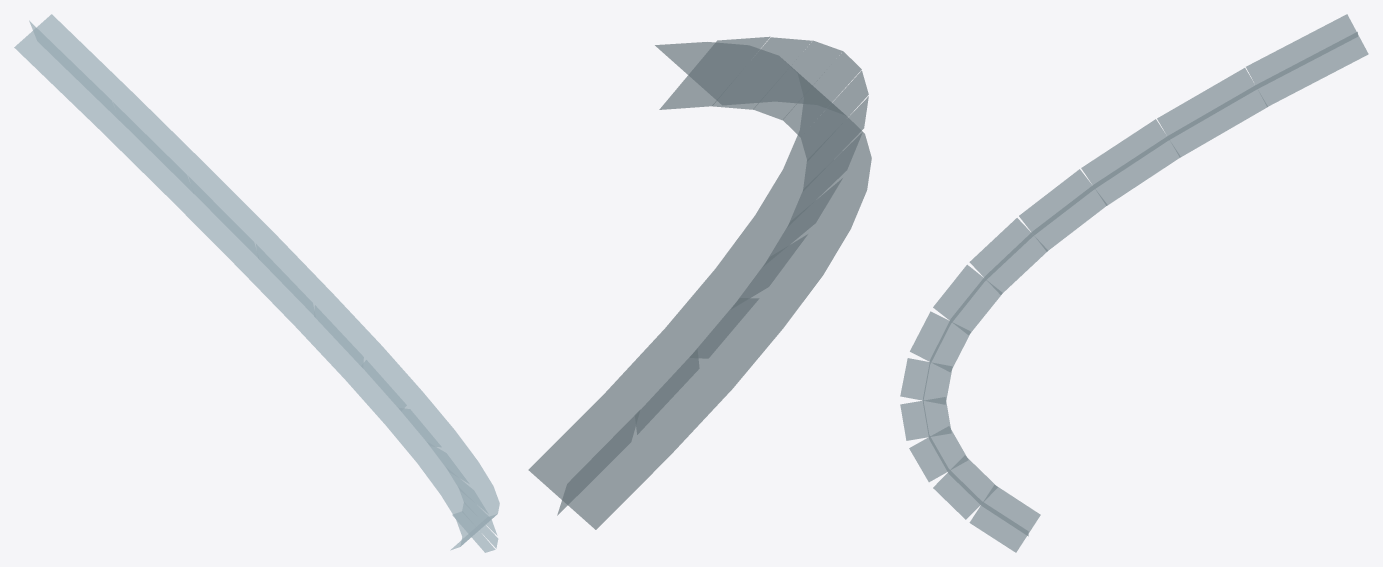
The model's file is wp_water_207.obj.
3 renders of one model, left to right at view 1: azimuth 30°, elevation 25°; view 2: azimuth 150°, elevation 25°; view 3: azimuth 270°, elevation 25°, orthographic. The views are drawn at different scales.
Size of the model in its own units: 0.0926 by 0.1416 by 0.1435.
1 material, 1 textured.
